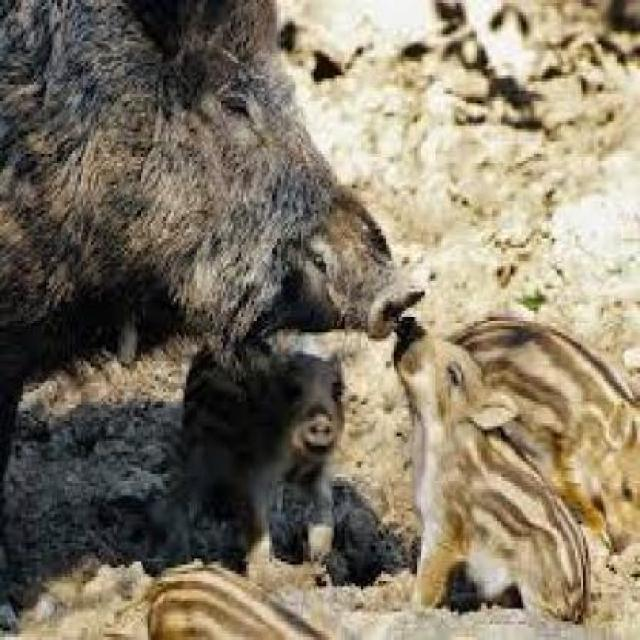wildboar: (0, 0, 434, 505), (374, 299, 604, 632), (136, 312, 372, 590), (440, 307, 640, 558), (118, 534, 368, 640)
